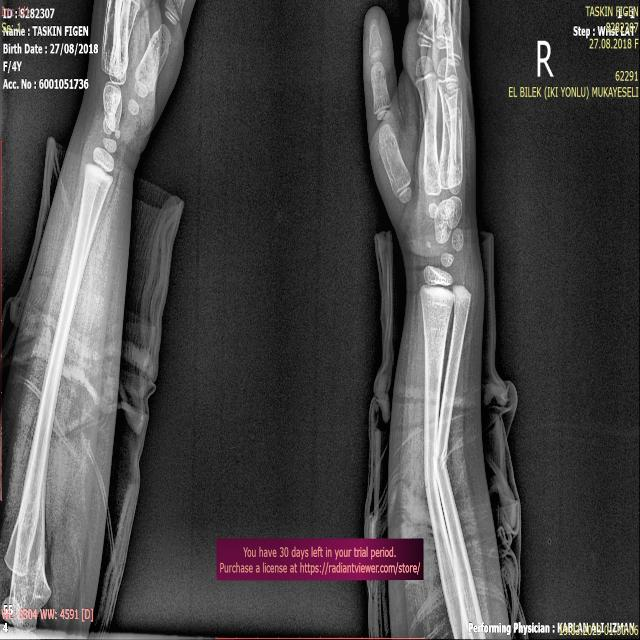Fracture: (431, 449, 450, 474), (422, 477, 437, 493)
